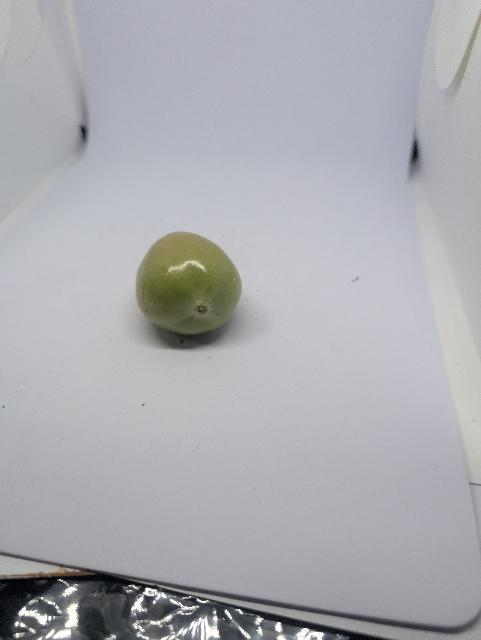green: (129, 208, 256, 361)
